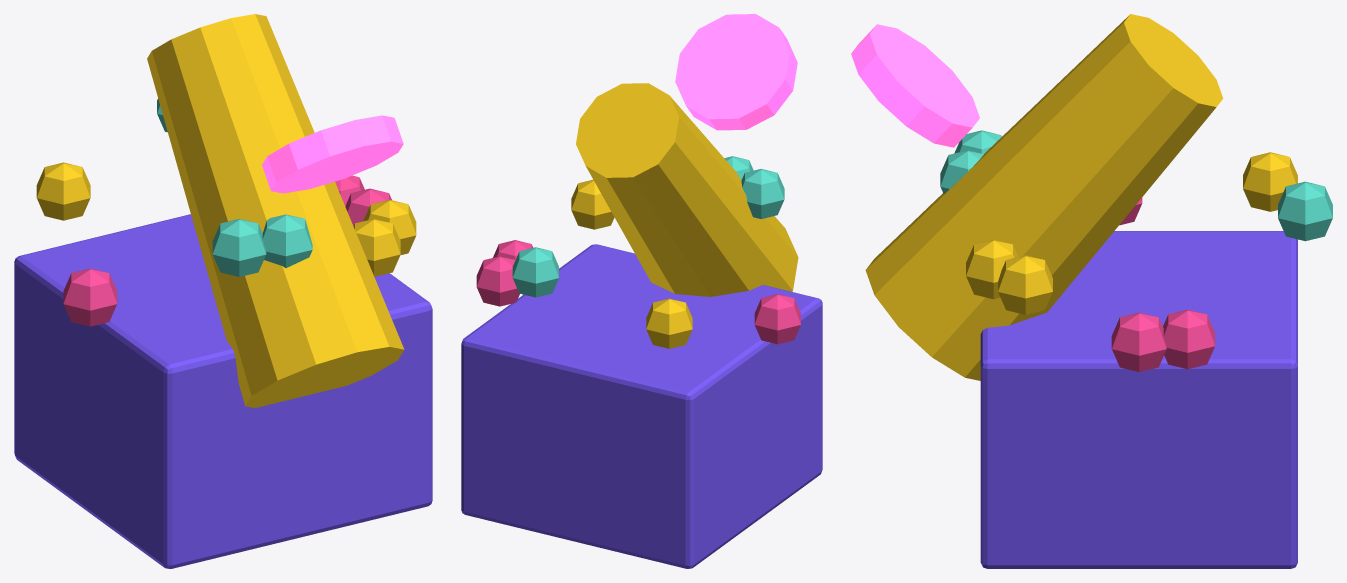
File: ball-blaster.glb
3 views of the same model, side by side, from view 1: azimuth 30°, elevation 25°; view 2: azimuth 150°, elevation 25°; view 3: azimuth 270°, elevation 25° (orthographic). The views are drawn at different scales.
Visible parts, largest first — view 1: ball-blaster; view 2: ball-blaster; view 3: ball-blaster.
Boxes of the visible parts, box(x1,y1,x2,y2) form: ball-blaster: box(14, 14, 432, 568); ball-blaster: box(461, 14, 822, 568); ball-blaster: box(851, 14, 1332, 568).
Size of the model in its own units: 2.83 by 3.68 by 3.34.
